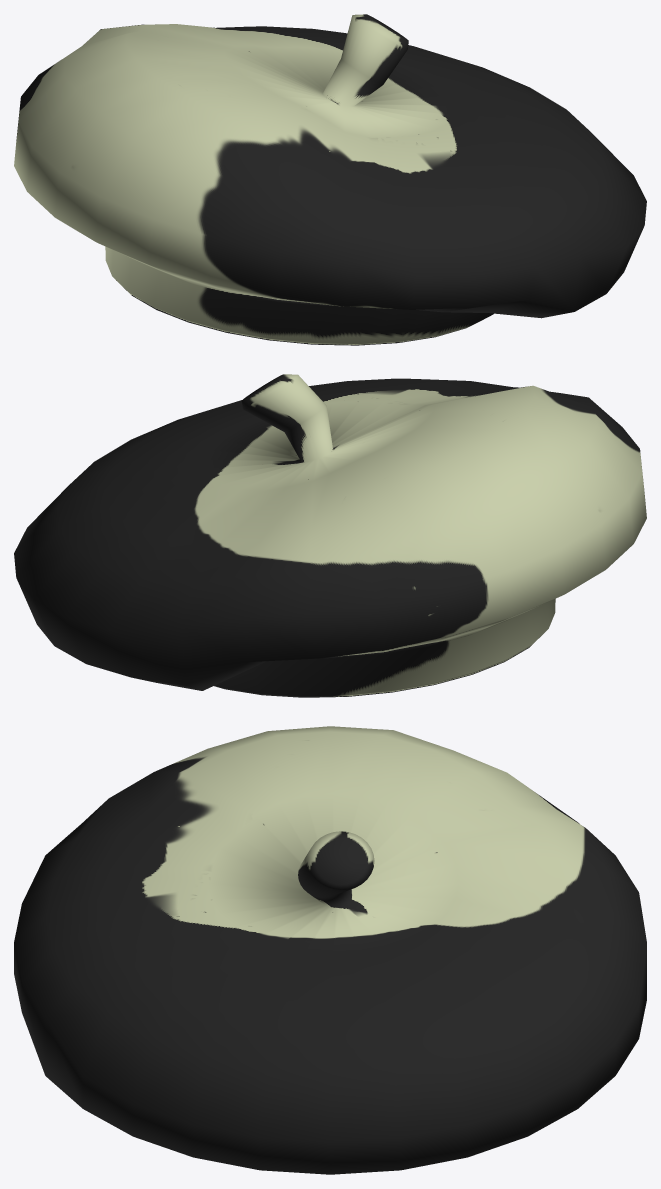
File: barret.fbx
3 views of the same model, one above another, from view 1: azimuth 30°, elevation 25°; view 2: azimuth 150°, elevation 25°; view 3: azimuth 270°, elevation 25° (orthographic). The views are drawn at different scales.
Visible parts, largest first — view 1: Cylinder; view 2: Cylinder; view 3: Cylinder.
Boxes of the visible parts, x1,y1,x2,y2 form: Cylinder: (14, 14, 646, 345); Cylinder: (14, 374, 646, 697); Cylinder: (14, 726, 646, 1174).
Bounding box in the file's own units: 206 × 94.14 × 200.
Materials: 1 (1 with a texture image).
